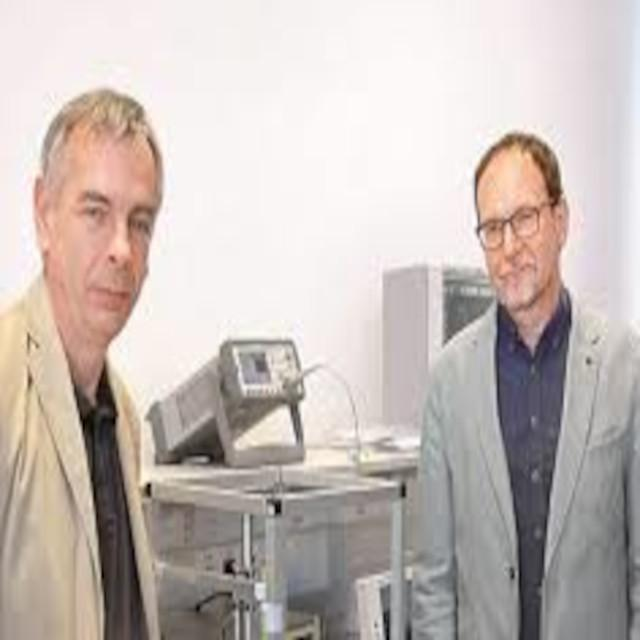mezczyzna: (421, 131, 640, 640), (0, 85, 176, 640)
